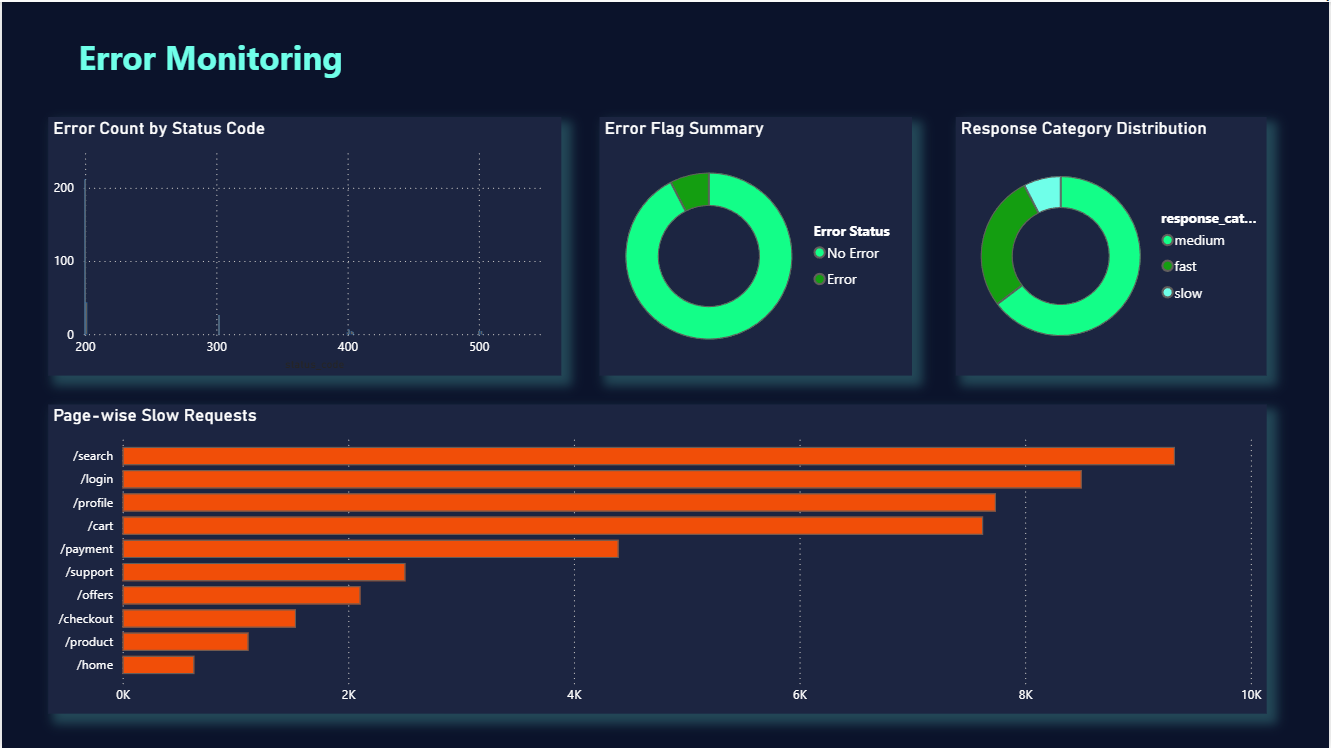

The page's visual inventory and layout, read from the dashboard file:
{"tool":"powerbi","page":{"name":"Error Monitoring","canvas":[1280,720],"ordinal":2},"visuals":[{"type":"clusteredColumnChart","title":"Error Count by Status Code","fields":{"Category":["cleaned_logs.status_code"],"Y":["cleaned_logs.Error Count"]},"box":[44.7,111.1,494.9,249.6],"z":0},{"type":"clusteredBarChart","title":"Page-wise Slow Requests","fields":{"Category":["cleaned_logs.page_url"],"Y":["Sum(cleaned_logs.log_id)"]},"box":[44.7,388.1,1175.9,298.7],"z":1000},{"type":"donutChart","title":"Error Flag Summary","fields":{"Category":["cleaned_logs.Error Status"],"Y":["CountNonNull(cleaned_logs.log_id)"]},"box":[577.1,111.1,301.5,249.6],"z":2000},{"type":"donutChart","title":"Response Category Distribution","fields":{"Category":["cleaned_logs.response_category"],"Y":["CountNonNull(cleaned_logs.log_id)"]},"box":[920.5,111.1,300.1,249.6],"z":3000},{"type":"textbox","box":[69.3,26,320.3,62],"z":3001}]}

Visuals, with their boxes in screenshot pixels (x1, y1, x2, y2), scaled from the page's 1280x720 canvas onto the 1331x748 screenshot:
"Error Count by Status Code" clusteredColumnChart: bbox=[46, 115, 561, 375]
"Page-wise Slow Requests" clusteredBarChart: bbox=[46, 403, 1269, 714]
"Error Flag Summary" donutChart: bbox=[600, 115, 914, 375]
"Response Category Distribution" donutChart: bbox=[957, 115, 1269, 375]
textbox: bbox=[72, 27, 405, 91]
